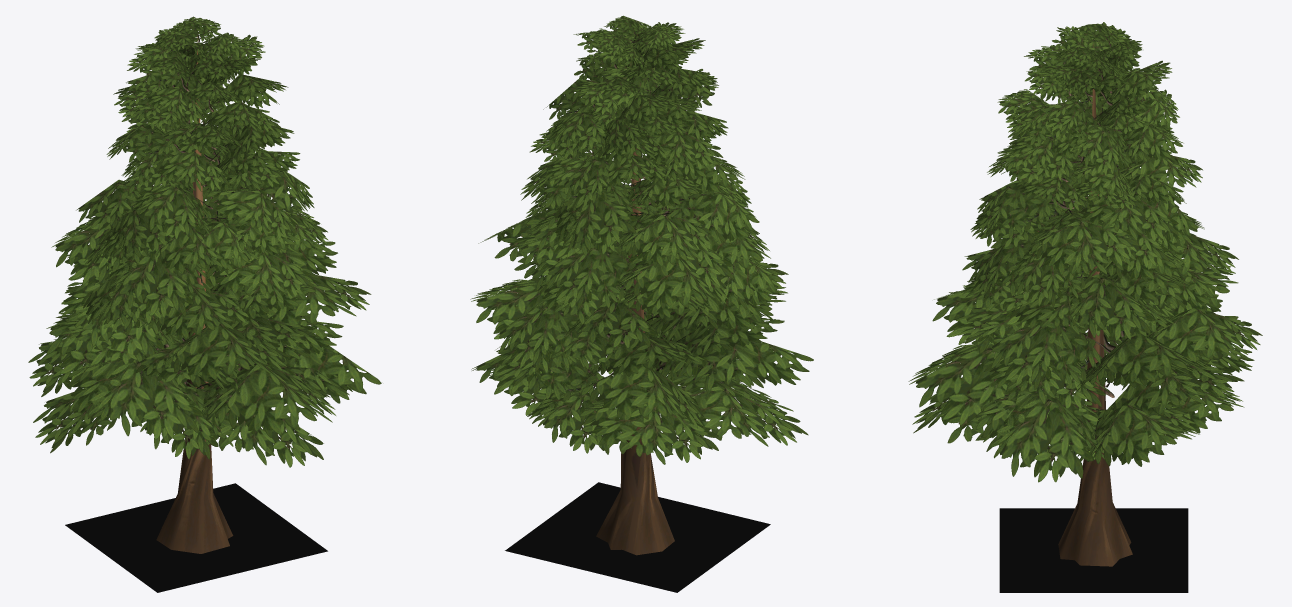
File: jj_tyshu03.FBX
3 views of the same model, side by side, from view 1: azimuth 30°, elevation 25°; view 2: azimuth 150°, elevation 25°; view 3: azimuth 270°, elevation 25° (orthographic).
Visible parts, largest first — view 1: jj_tyshu03, shadow, jj_tyshu03_1; view 2: jj_tyshu03, shadow, jj_tyshu03_1; view 3: jj_tyshu03, shadow, jj_tyshu03_1.
Part boxes in pixels (box(x1,y1,x2,y2)): jj_tyshu03: box(28, 16, 381, 467); shadow: box(65, 483, 327, 592); jj_tyshu03_1: box(156, 36, 233, 553); jj_tyshu03: box(470, 15, 813, 464); shadow: box(505, 482, 770, 592); jj_tyshu03_1: box(596, 34, 674, 555); jj_tyshu03: box(908, 22, 1262, 482); shadow: box(999, 508, 1188, 592); jj_tyshu03_1: box(1058, 44, 1132, 566).
Size of the model in its own units: 287 by 430 by 301.
